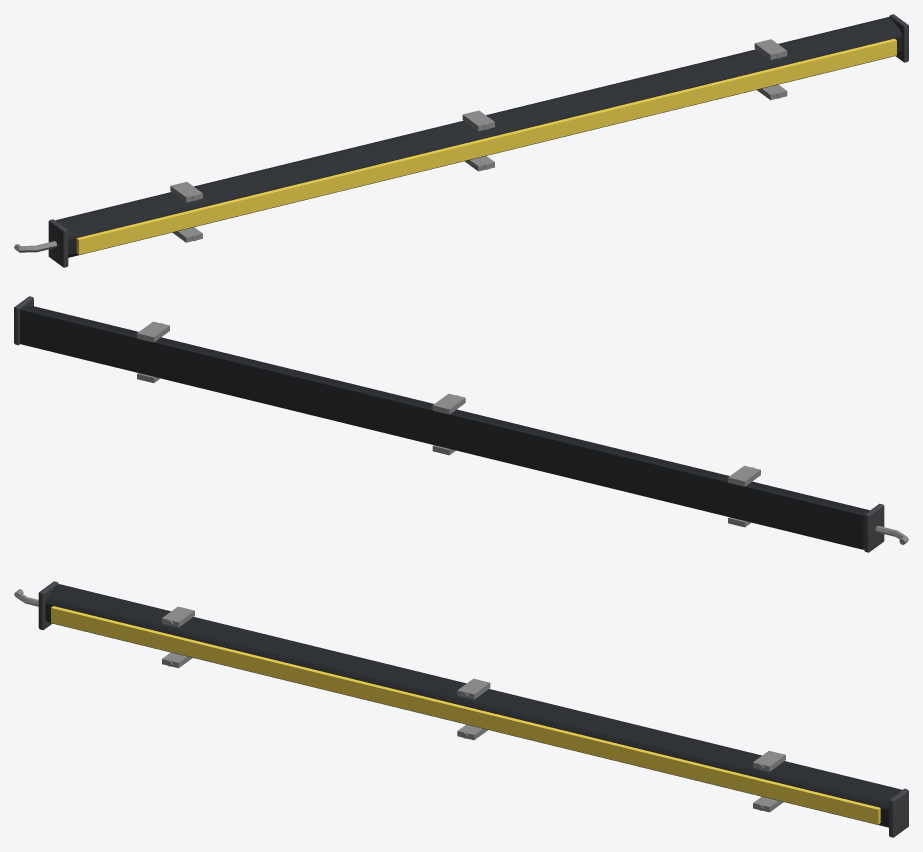
File: Light_Strip_Bar_2m_Yellow.fbx
3 views of the same model, one above another, from view 1: azimuth 30°, elevation 25°; view 2: azimuth 150°, elevation 25°; view 3: azimuth 330°, elevation 25° (orthographic).
Parts seen in each view (by area): view 1: Light_Strip_Bar_2m_Yellow_LOD0; view 2: Light_Strip_Bar_2m_Yellow_LOD0; view 3: Light_Strip_Bar_2m_Yellow_LOD0.
Boxes of the visible parts, left/top/right/bottom form: Light_Strip_Bar_2m_Yellow_LOD0: left=14, top=14, right=908, bottom=267; Light_Strip_Bar_2m_Yellow_LOD0: left=14, top=296, right=908, bottom=552; Light_Strip_Bar_2m_Yellow_LOD0: left=14, top=581, right=908, bottom=837.
Size of what is drawn, in the model's own units: 2.11 by 0.104 by 0.071.
